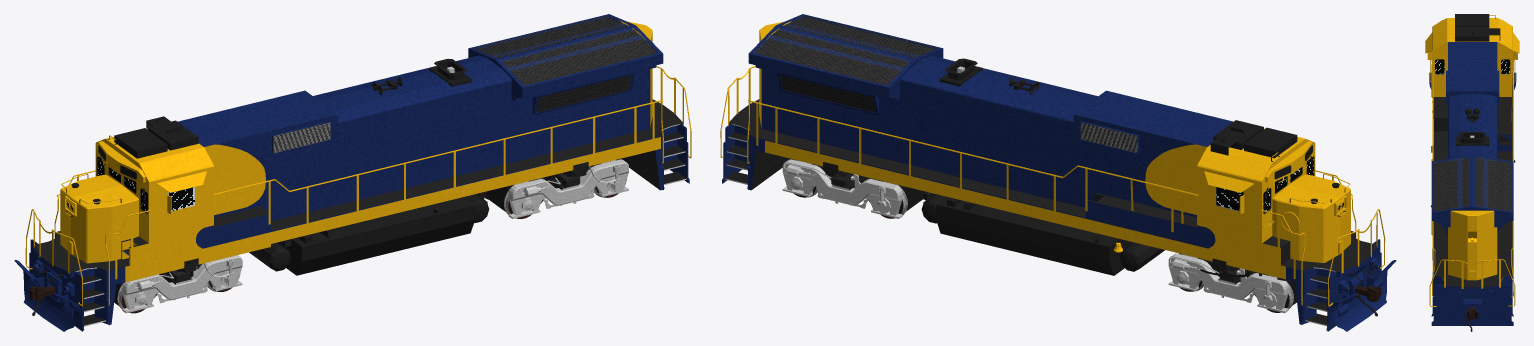
3 views of the same model, side by side, from view 1: azimuth 30°, elevation 25°; view 2: azimuth 150°, elevation 25°; view 3: azimuth 270°, elevation 25° (orthographic). The views are drawn at different scales.
Parts seen in each view (by area): view 1: FRAME, SHELL_3_LONGHOOD, SHELL_2_LONGHOOD.002, SHELL_1_LONGHOOD.001, CAB_CAB8, TANK, FHOOD40, BOGEY_REAR_BOGIE1.001, BOGEY_FRONT_BOGIE1, MICRO, PLOW_ICPLOW, Cube.003 (+3 smaller); view 2: FRAME, SHELL_3_LONGHOOD, SHELL_2_LONGHOOD.002, SHELL_1_LONGHOOD.001, CAB_CAB8, TANK, FHOOD40, BOGEY_REAR_BOGIE1.001, BOGEY_FRONT_BOGIE1, MICRO, PLOW_ICPLOW, Cube.003 (+3 smaller); view 3: SHELL_3_LONGHOOD, FRAME, CAB_CAB8, SHELL_1_LONGHOOD.001, SHELL_2_LONGHOOD.002, MICRO, VISORS, HORN_Cylinder.021, BACK_COUPLER_Cube.002, PLOW_ICPLOW.
Part boxes in pixels (<box>): FRAME: <box>29,99,689,331</box>; SHELL_3_LONGHOOD: <box>461,14,663,166</box>; SHELL_2_LONGHOOD.002: <box>313,58,492,204</box>; SHELL_1_LONGHOOD.001: <box>178,90,337,221</box>; CAB_CAB8: <box>25,66,691,306</box>; TANK: <box>249,192,489,275</box>; FHOOD40: <box>60,175,138,263</box>; BOGEY_REAR_BOGIE1.001: <box>486,159,628,218</box>; BOGEY_FRONT_BOGIE1: <box>114,255,242,313</box>; MICRO: <box>114,116,198,158</box>; PLOW_ICPLOW: <box>14,260,80,331</box>; Cube.003: <box>83,131,686,326</box>; FRAME: <box>722,99,1381,331</box>; SHELL_3_LONGHOOD: <box>748,14,949,166</box>; SHELL_2_LONGHOOD.002: <box>918,58,1097,204</box>; SHELL_1_LONGHOOD.001: <box>1073,90,1233,217</box>; CAB_CAB8: <box>720,65,1385,306</box>; TANK: <box>921,193,1164,275</box>; FHOOD40: <box>1272,174,1350,262</box>; BOGEY_REAR_BOGIE1.001: <box>782,159,924,218</box>; BOGEY_FRONT_BOGIE1: <box>1168,253,1296,313</box>; MICRO: <box>1210,120,1297,158</box>; PLOW_ICPLOW: <box>1330,260,1396,331</box>; Cube.003: <box>725,131,1328,326</box>; SHELL_3_LONGHOOD: <box>1431,151,1513,280</box>; FRAME: <box>1431,97,1513,325</box>; CAB_CAB8: <box>1427,18,1517,306</box>; SHELL_1_LONGHOOD.001: <box>1446,42,1499,104</box>; SHELL_2_LONGHOOD.002: <box>1448,94,1497,154</box>; MICRO: <box>1455,14,1500,41</box>; VISORS: <box>1425,32,1519,53</box>; HORN_Cylinder.021: <box>1464,108,1479,122</box>; BACK_COUPLER_Cube.002: <box>1467,307,1478,320</box>; PLOW_ICPLOW: <box>1429,72,1516,89</box>.
Bounding box in the file's own units: 20.62 × 4.89 × 3.43.
